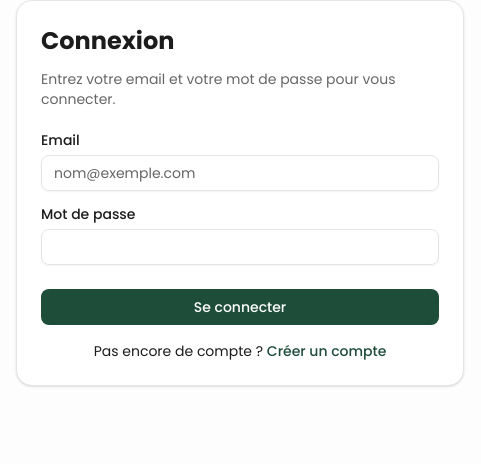
LoginForm › should show error message on failed login
This screenshot has width=481, height=464.
Type "test@example.com" into the field labelled "Email" at coordinates (240, 173), box [41,155,439,191]
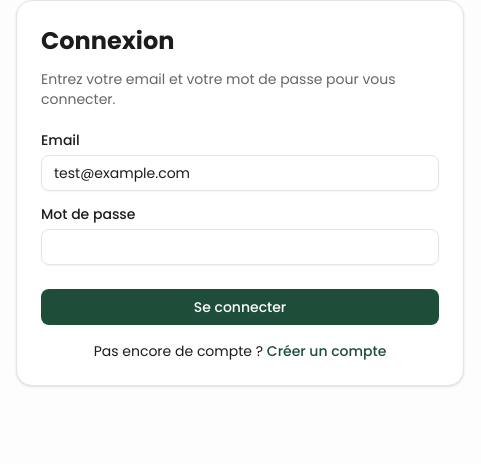
Type "password123" into the password field labelled "Mot de passe" at coordinates (240, 247), box [41,229,439,265]
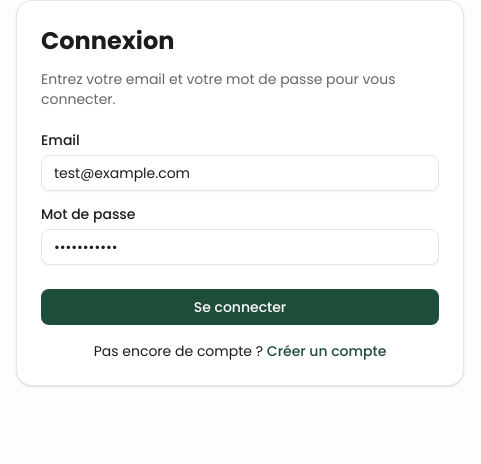
Click the button "Se connecter" at coordinates (240, 307), box [41,289,439,325]
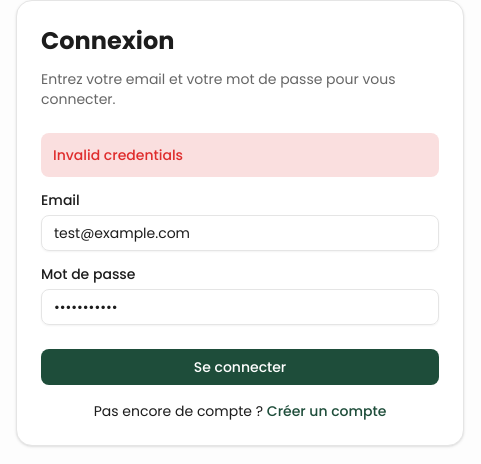
expect the text "Invalid credentials" is shown: met, box [41,133,439,177]
